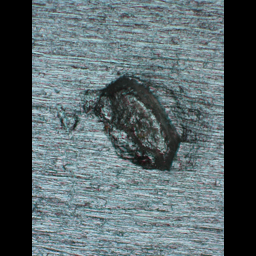d: (80, 70, 194, 176)
